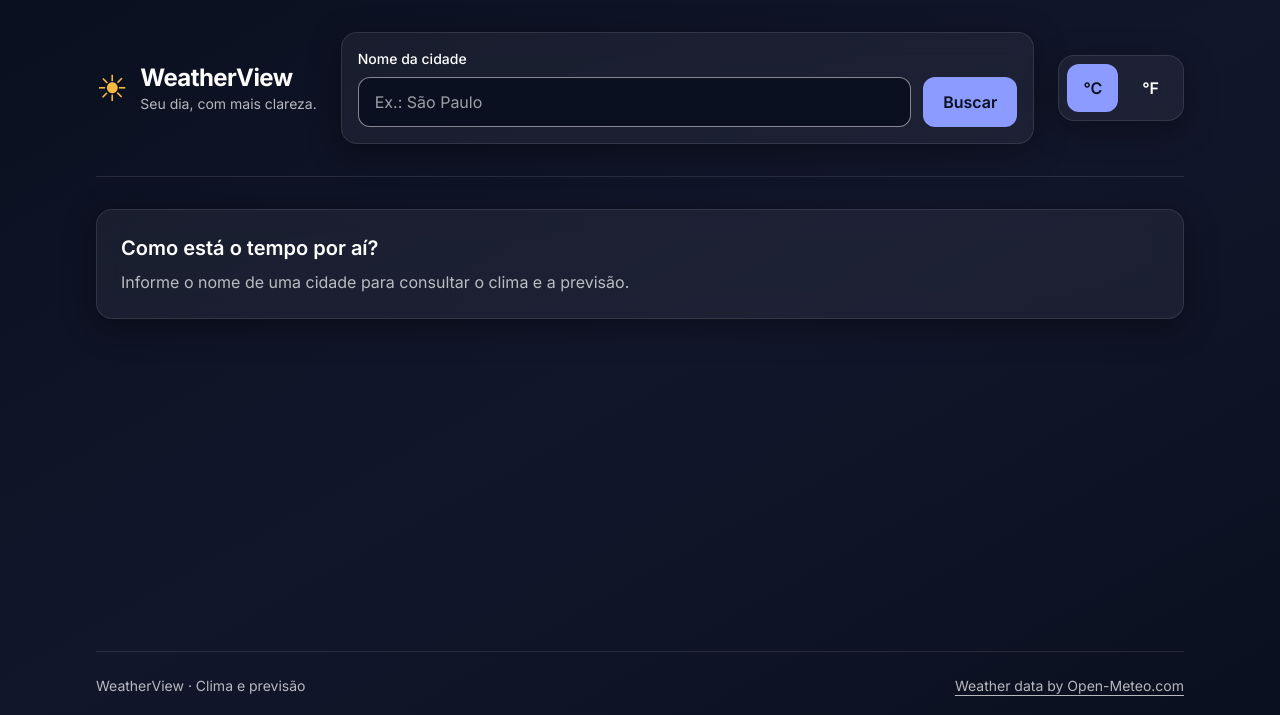
Test: App integrado ao useWeather › exibe os dias válidos e o aviso em uma previsão parcial
Type "São Paulo" into the search field at (635,102), box x1=358 y1=77 x2=911 y2=127
Then press Enter
(page scrolled)
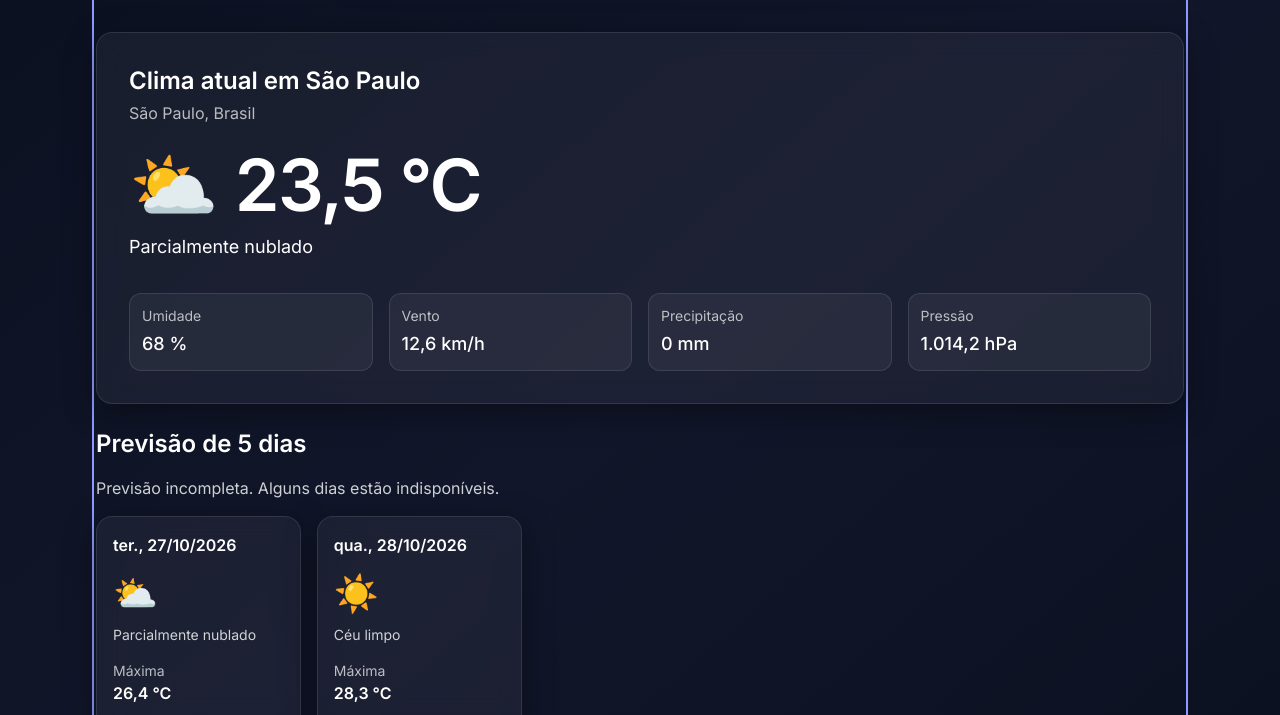
Result: the text "23,5 °C" is shown at x1=235 y1=149 x2=481 y2=221
Result: the text "Previsão incompleta. Alguns dias estão indisponíveis." is shown at x1=96 y1=478 x2=499 y2=498
